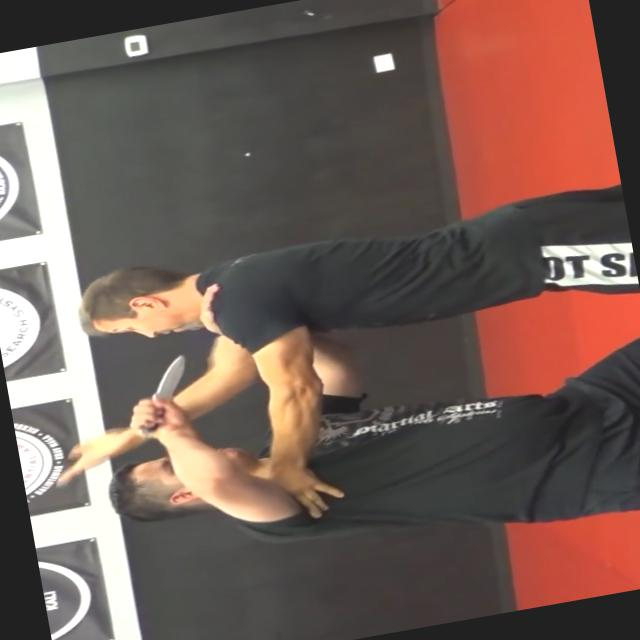knife: (112, 346, 206, 439)
